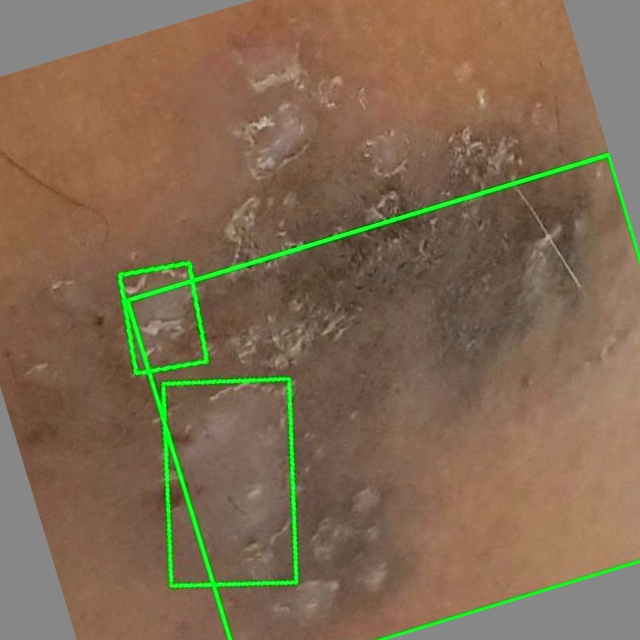Contact Dermatitis: (127, 154, 639, 639), (163, 379, 296, 587), (119, 264, 206, 374)
